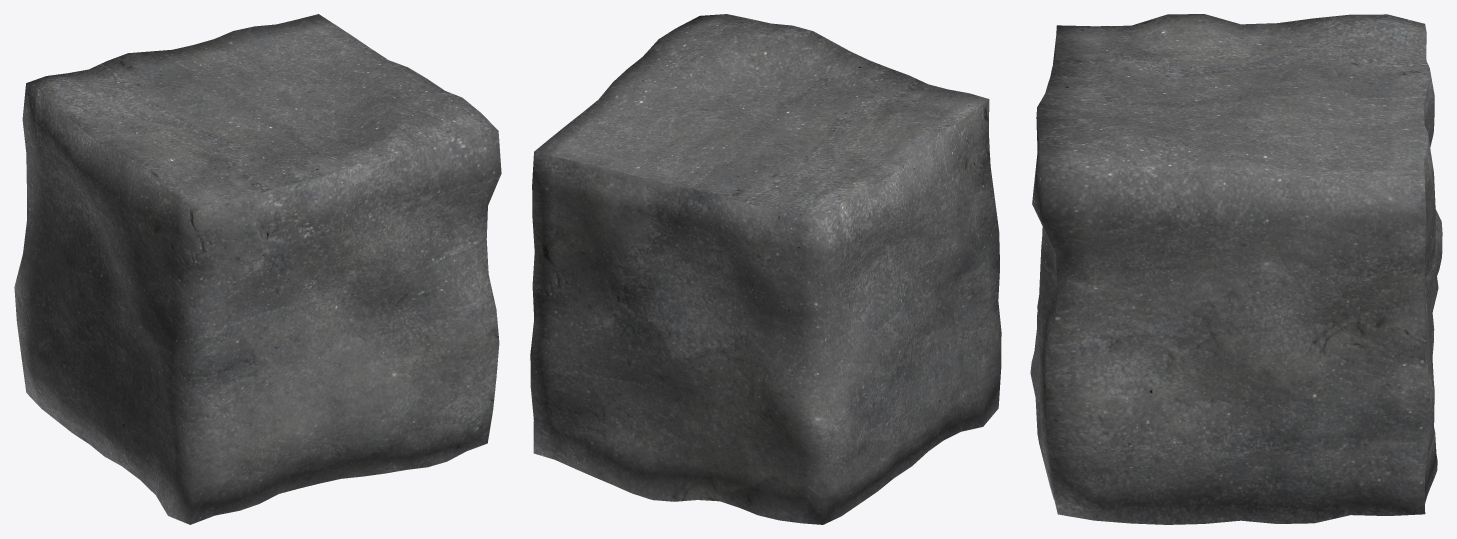
File: pedra12.fbx
The picture shows the model from 3 angles, left to right: view 1: azimuth 30°, elevation 25°; view 2: azimuth 150°, elevation 25°; view 3: azimuth 270°, elevation 25°; orthographic projection. The views are drawn at different scales.
Parts seen in each view (by area): view 1: Cube; view 2: Cube; view 3: Cube.
Part boxes in pixels (x1=…): Cube: x1=14, y1=14, x2=501, y2=524; Cube: x1=530, y1=14, x2=1001, y2=524; Cube: x1=1030, y1=14, x2=1442, y2=524.
Size of the model in its own units: 224 by 227 by 225.
1 material, 1 textured.
